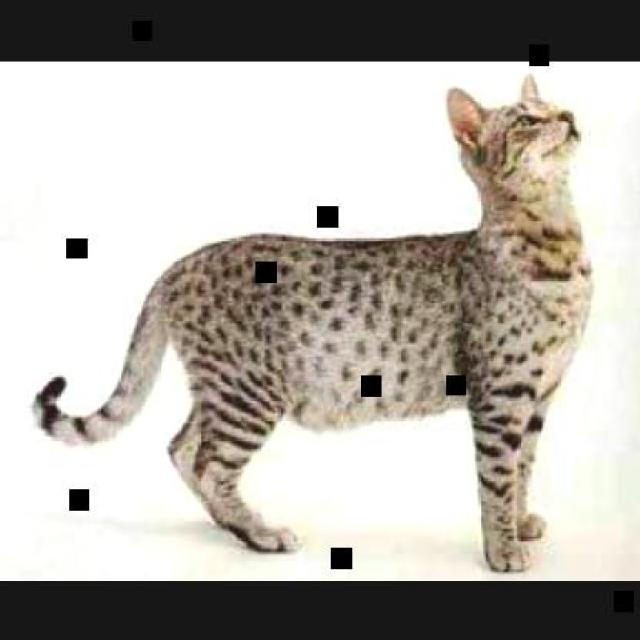unauthorized: (31, 72, 594, 572)
